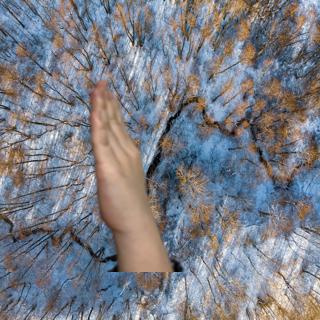RIGHT: (88, 76, 161, 239)
